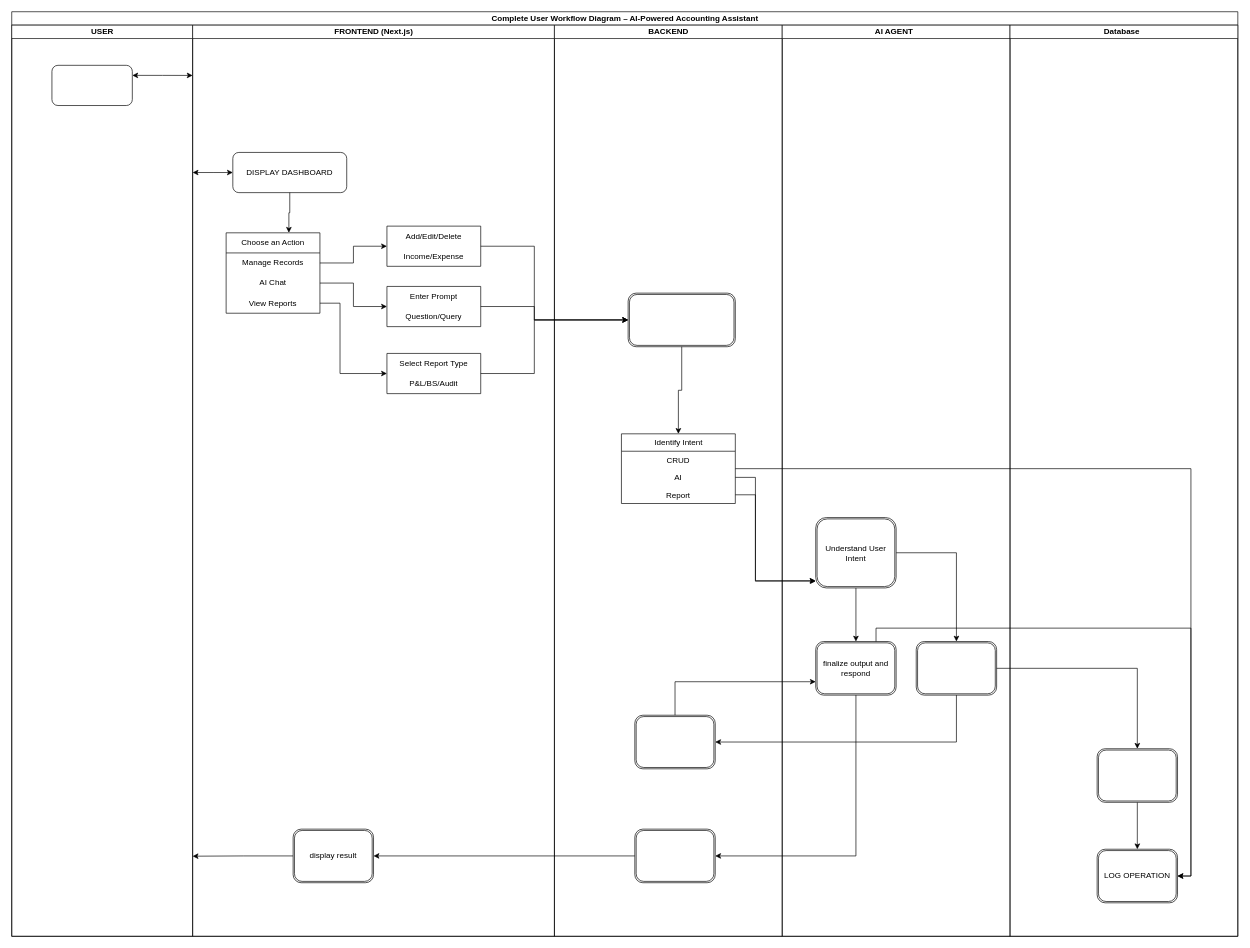
Image size: 1250x948. Some labels were removed from this diagram. The centre of each missing label's shape, as x and y in pixels:
call tool: pixel 956 668
DATABASE CRUD AND TRANSACTION OPERATION: pixel 1137 775
EXECUTE TOOL: pixel 674 742
LOGIN: pixel 91 85
validate and send response: pixel 674 855
VALIDATE REQUEST: pixel 681 319
